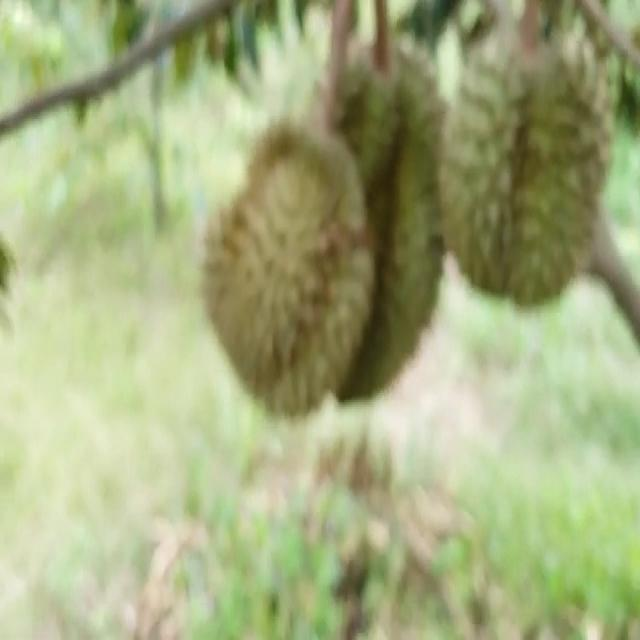durian: (276, 28, 462, 414), (195, 110, 378, 431), (435, 19, 620, 318)
